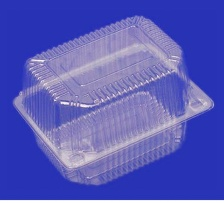plastic_box: (6, 9, 220, 192)
